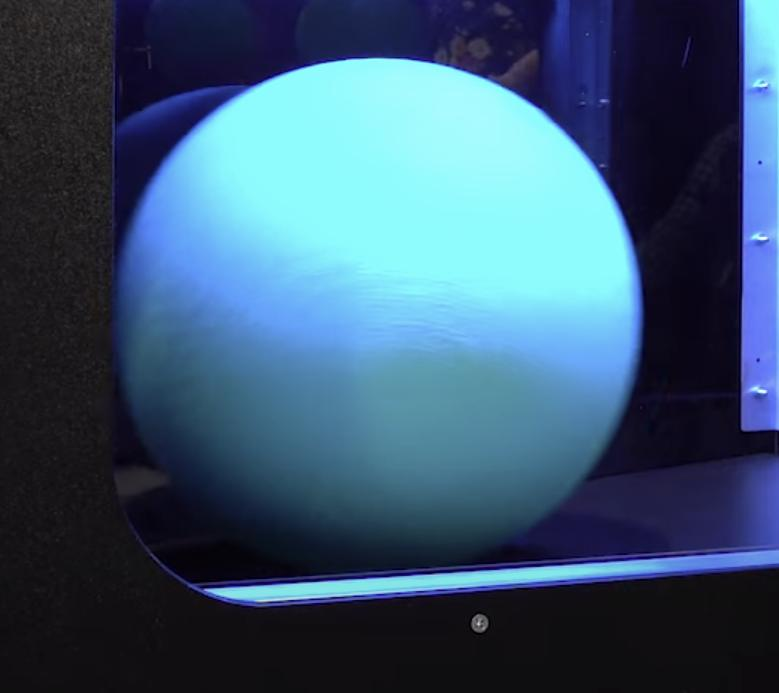algae: (117, 58, 643, 570)
